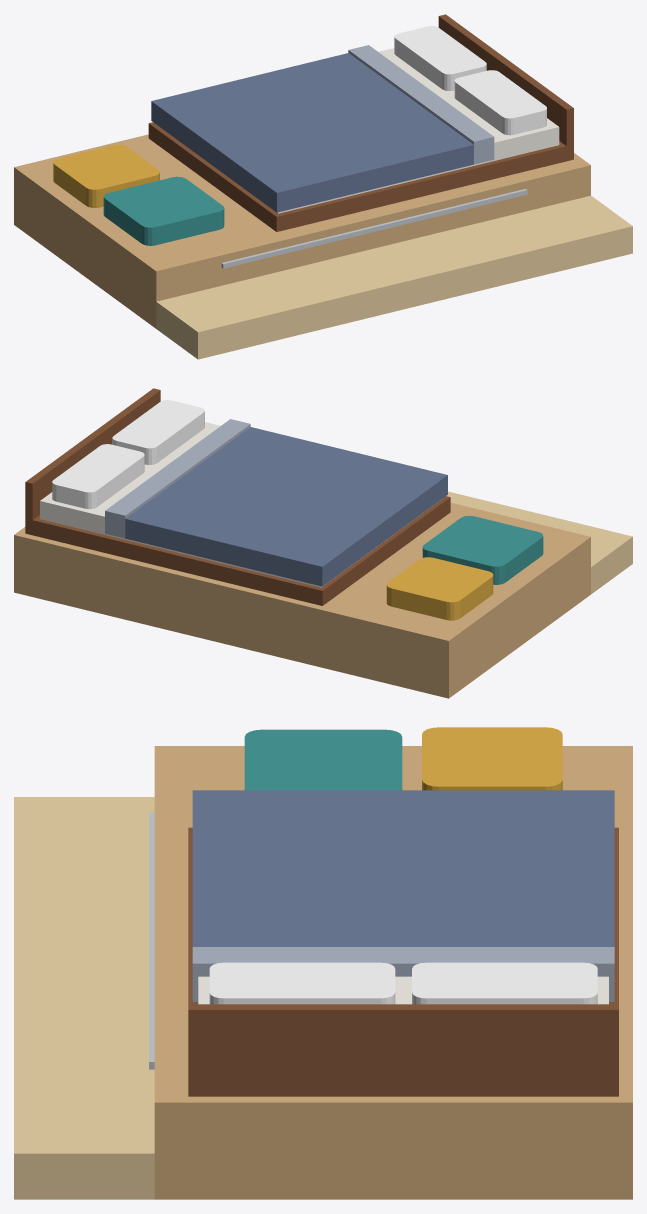
Rendered from platform_bed_podium.glb.
3 renders of one model, top to bottom at view 1: azimuth 30°, elevation 25°; view 2: azimuth 150°, elevation 25°; view 3: azimuth 270°, elevation 25°, orthographic. The views are drawn at different scales.
Visible parts, largest first — view 1: platform_bed_podium_Body; view 2: platform_bed_podium_Body; view 3: platform_bed_podium_Body.
Boxes of the visible parts, <box> form: platform_bed_podium_Body: <box>14,14,632,359</box>; platform_bed_podium_Body: <box>14,388,632,698</box>; platform_bed_podium_Body: <box>14,727,632,1199</box>.
Size of the model in its own units: 3 by 0.72 by 2.2.
